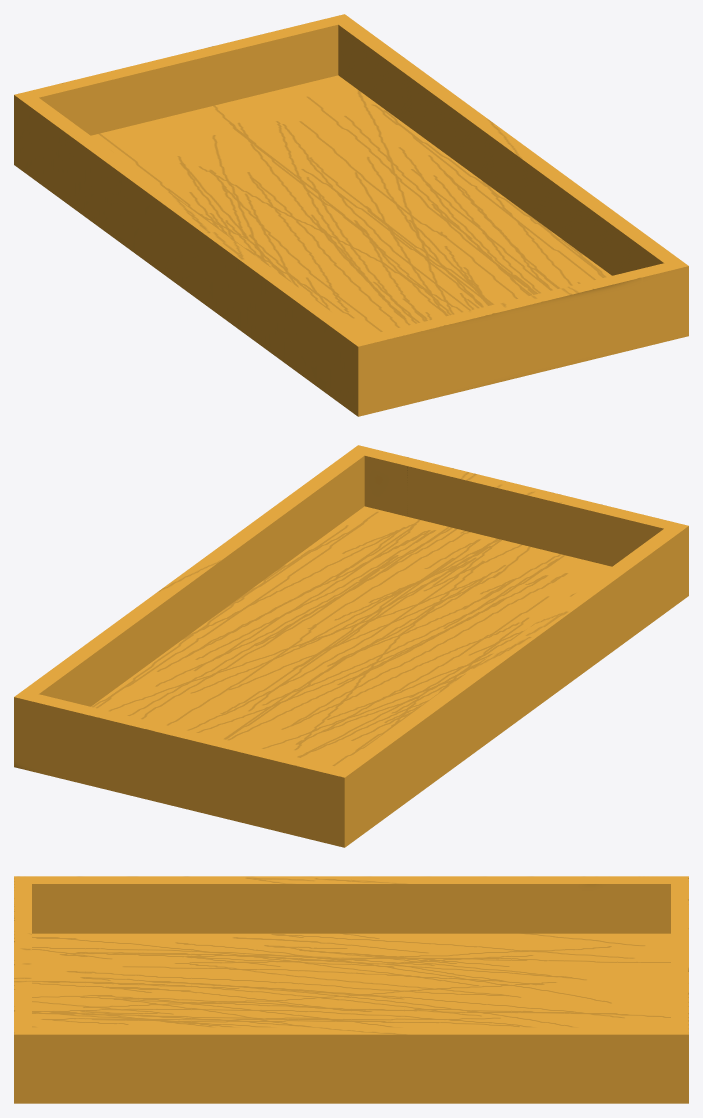
The model's file is shitty_board.obj.
3 views of the same model, one above another, from view 1: azimuth 30°, elevation 25°; view 2: azimuth 150°, elevation 25°; view 3: azimuth 270°, elevation 25° (orthographic).
Visible parts, largest first — view 1: Board_Cube.001; view 2: Board_Cube.001; view 3: Board_Cube.001.
Part boxes in pixels (<box>): Board_Cube.001: <box>14,14,688,416</box>; Board_Cube.001: <box>14,445,688,847</box>; Board_Cube.001: <box>14,876,688,1103</box>.
Bounding box in the file's own units: 4.5 × 0.9106 × 8.11.
1 material, 1 textured.
